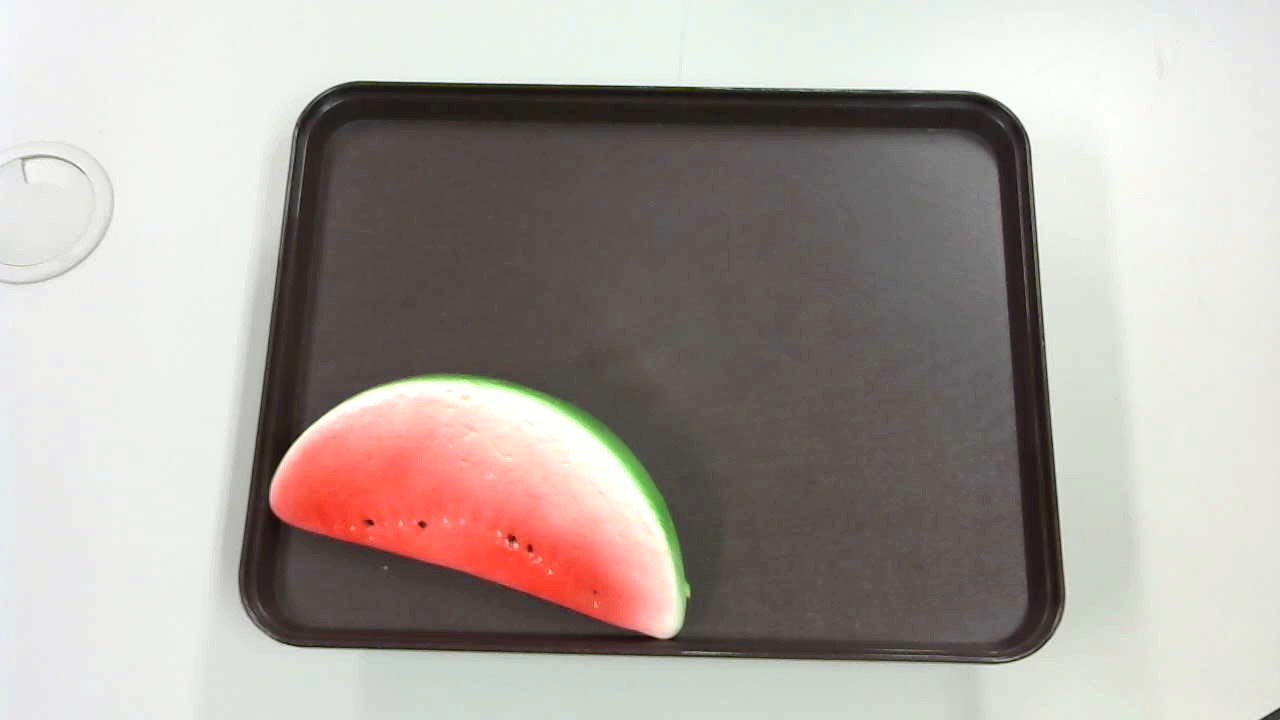water melon: (256, 361, 720, 669)
